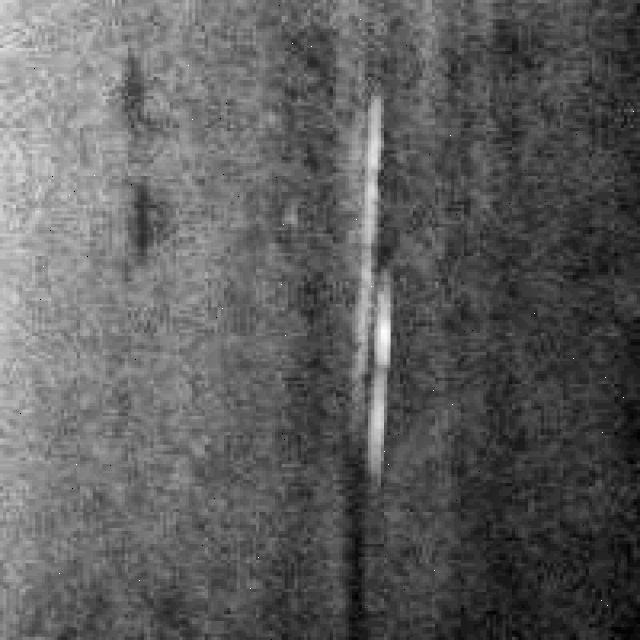Inclusion: (339, 93, 394, 477)
Patches: (118, 147, 164, 253)
